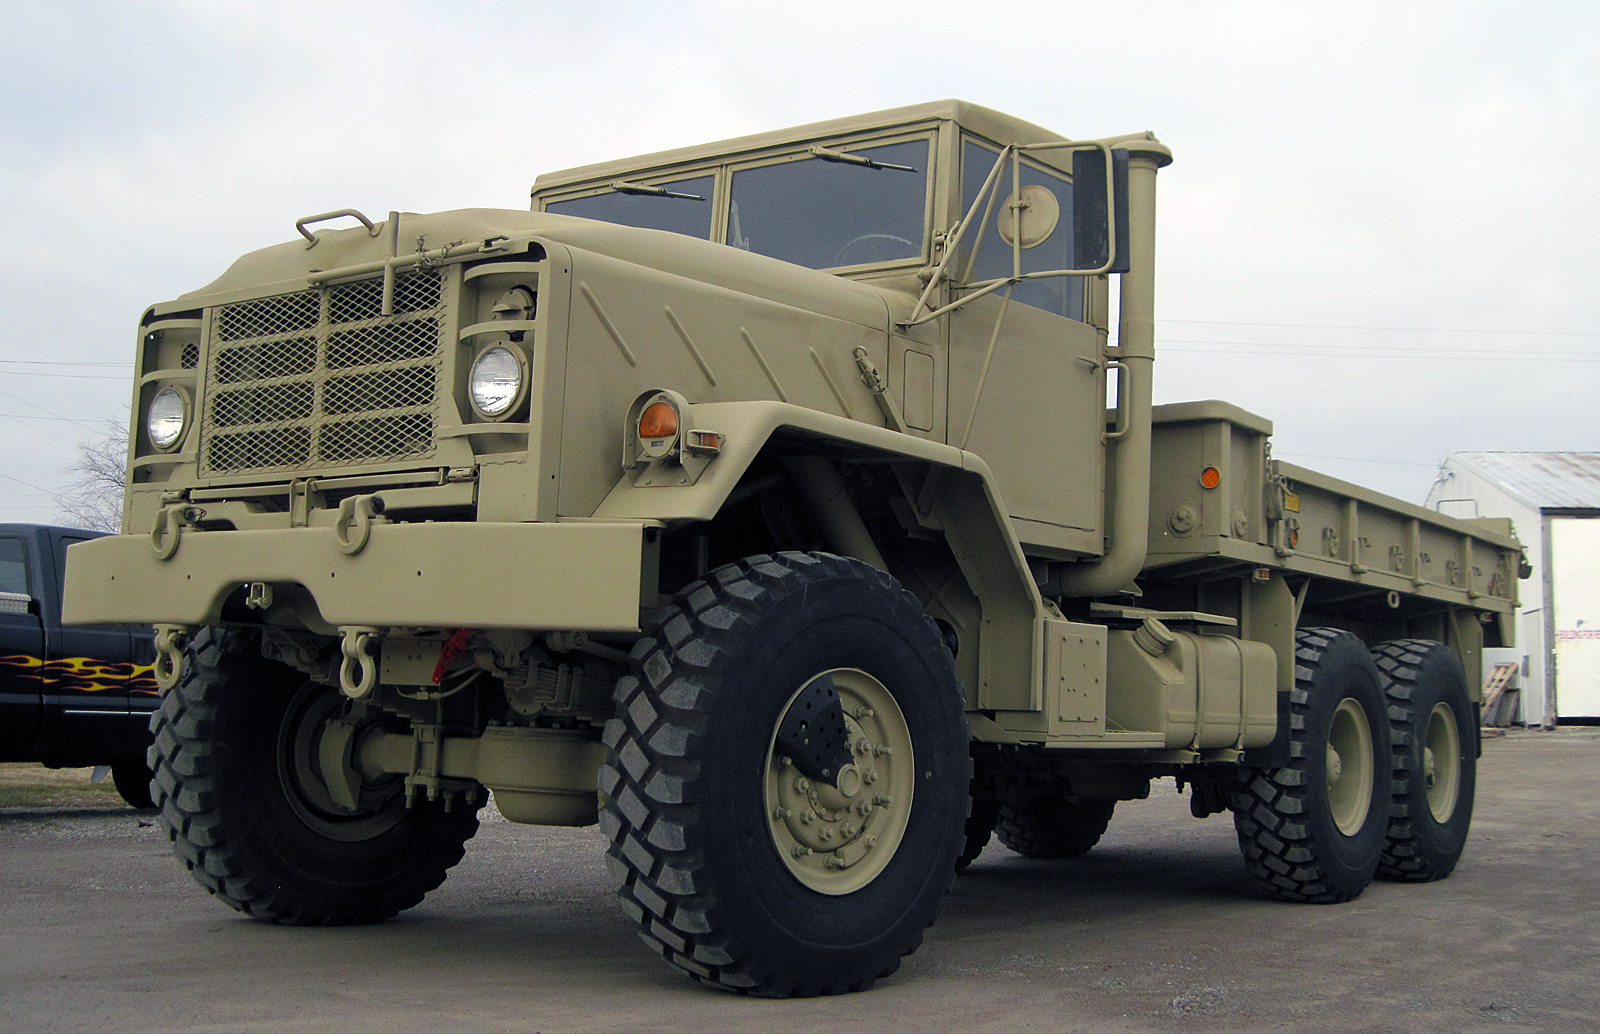truck: (65, 87, 1532, 996)
